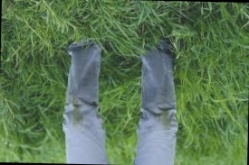earth: (163, 109, 171, 130), (75, 104, 82, 124)
